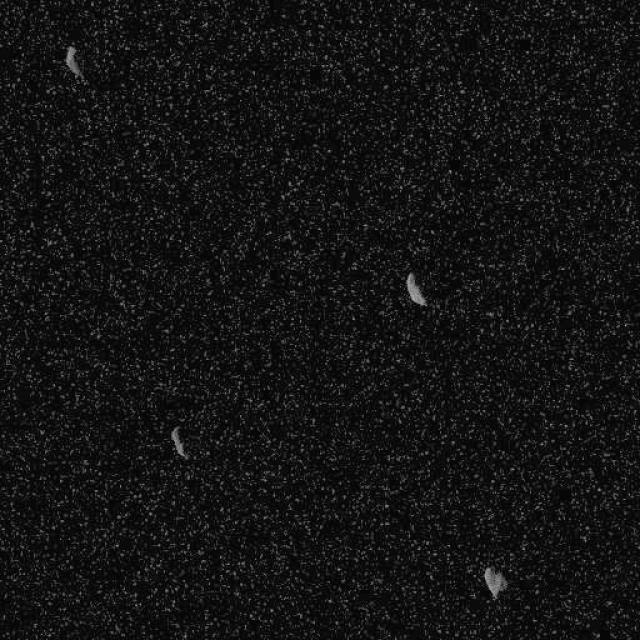D2: (403, 270, 428, 306), (482, 565, 508, 599), (62, 44, 84, 80), (169, 424, 189, 458)
